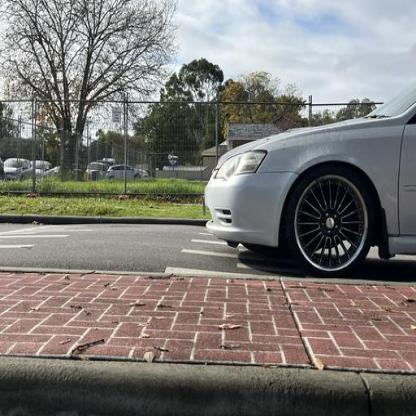Tire: (284, 162, 373, 279)
